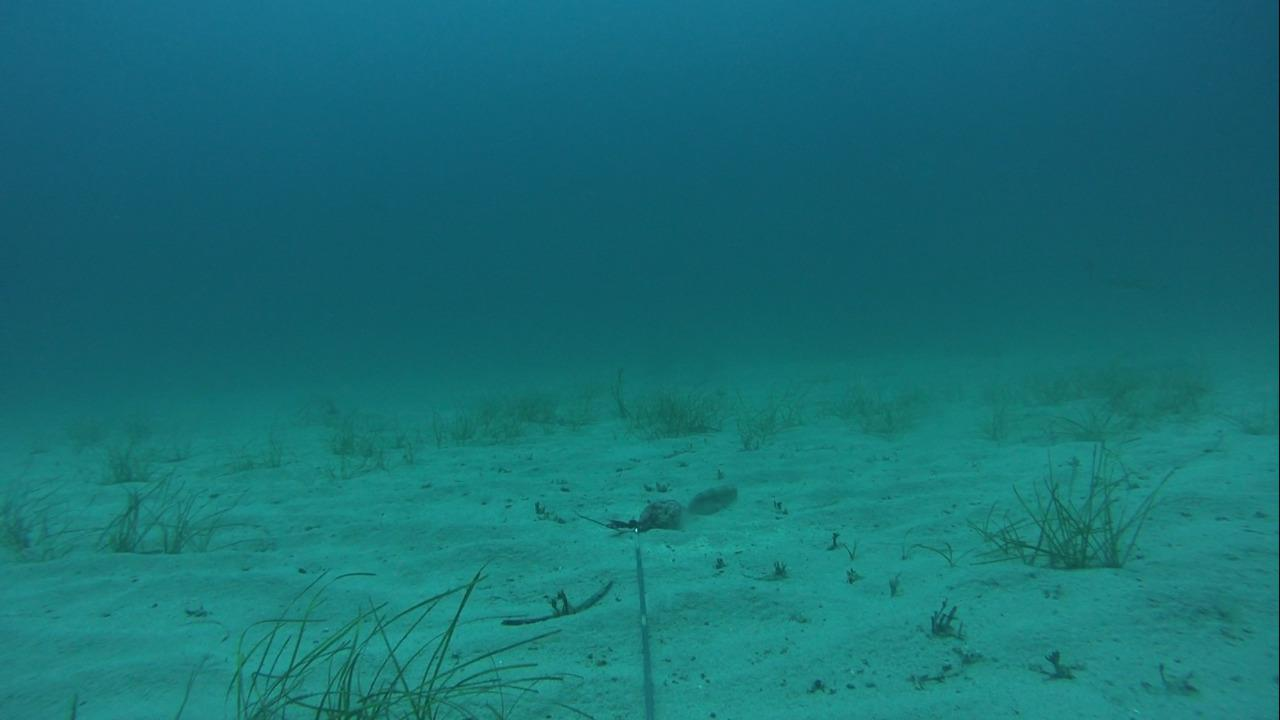raor: (682, 478, 745, 519)
